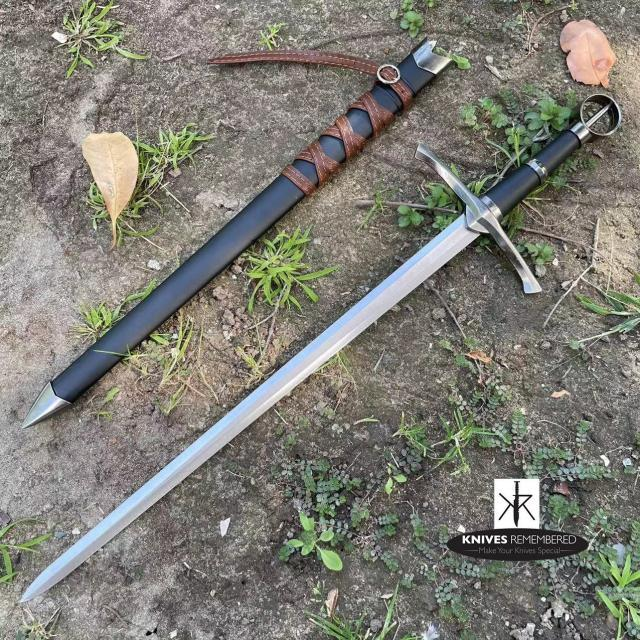scabbard: (22, 39, 449, 425)
sword: (18, 96, 620, 599)
